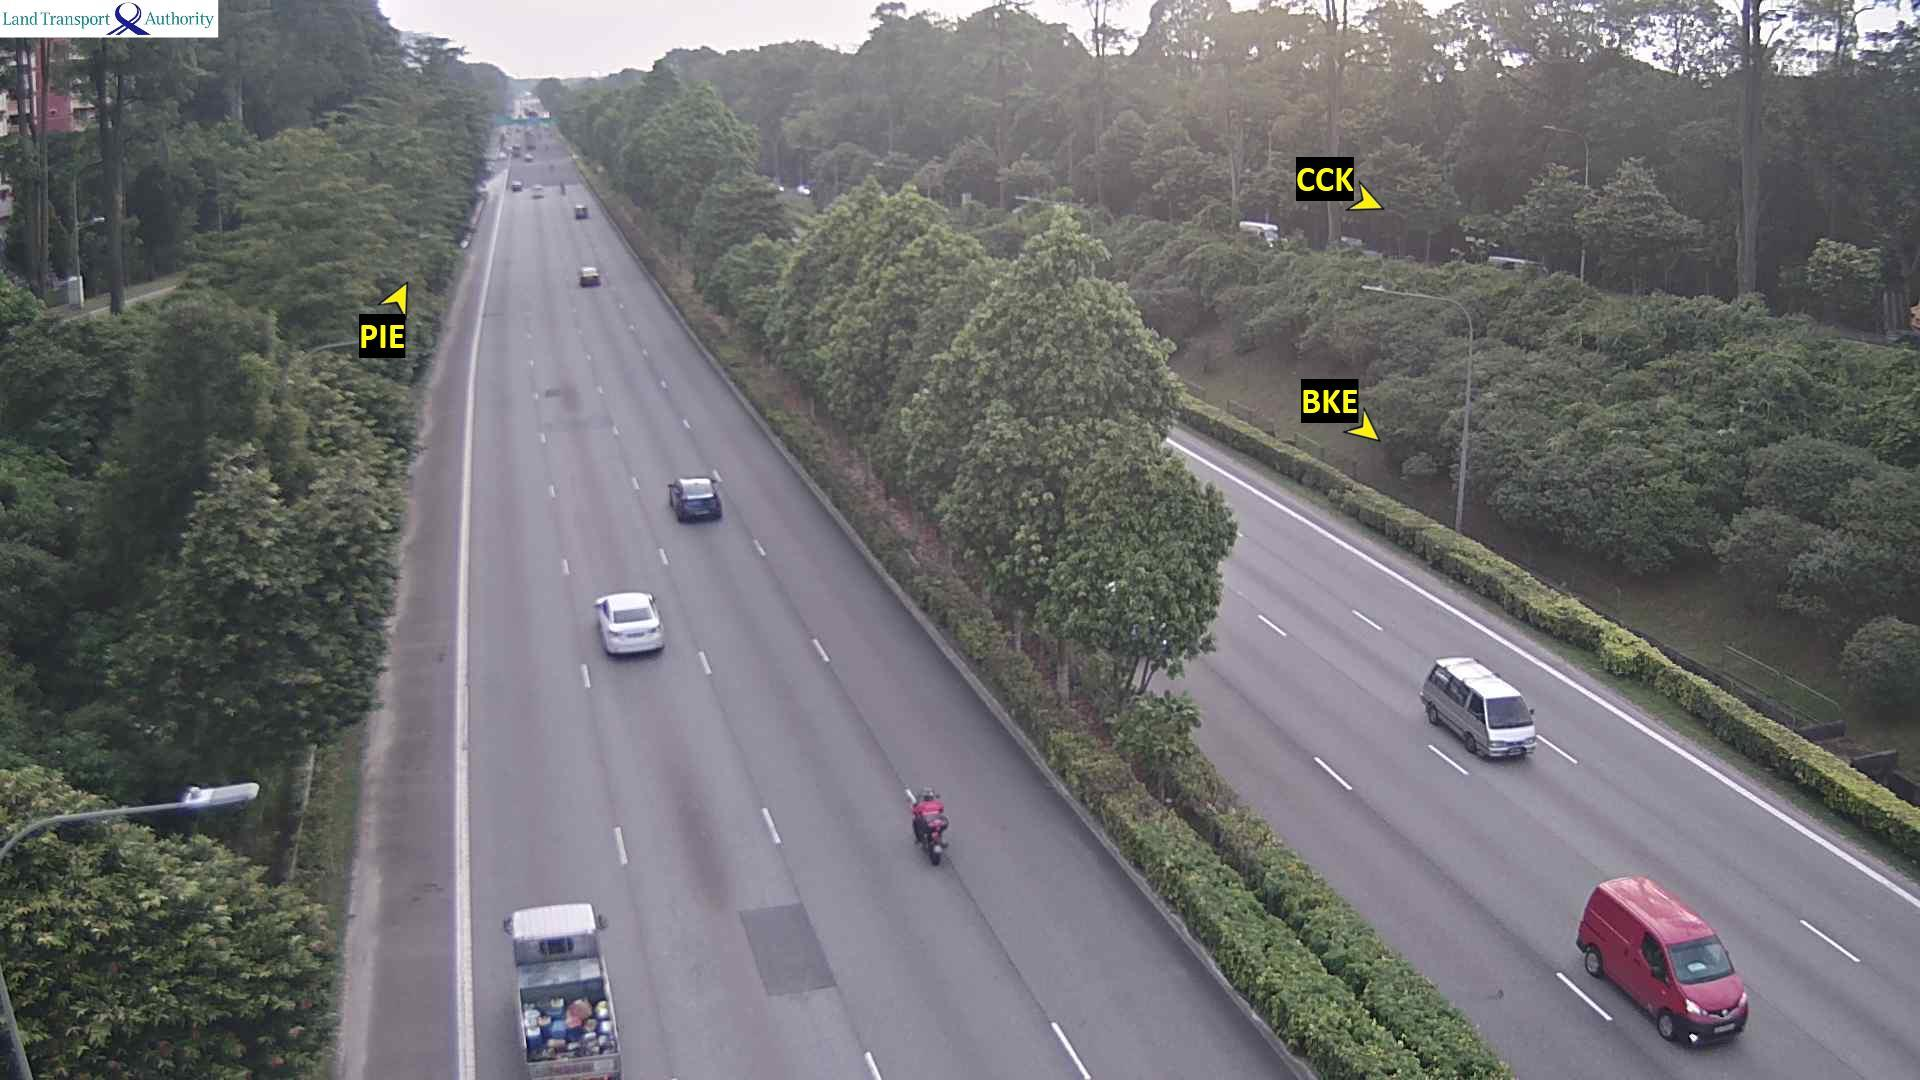incoming: (1655, 942, 1750, 1044), (1474, 692, 1538, 761)
